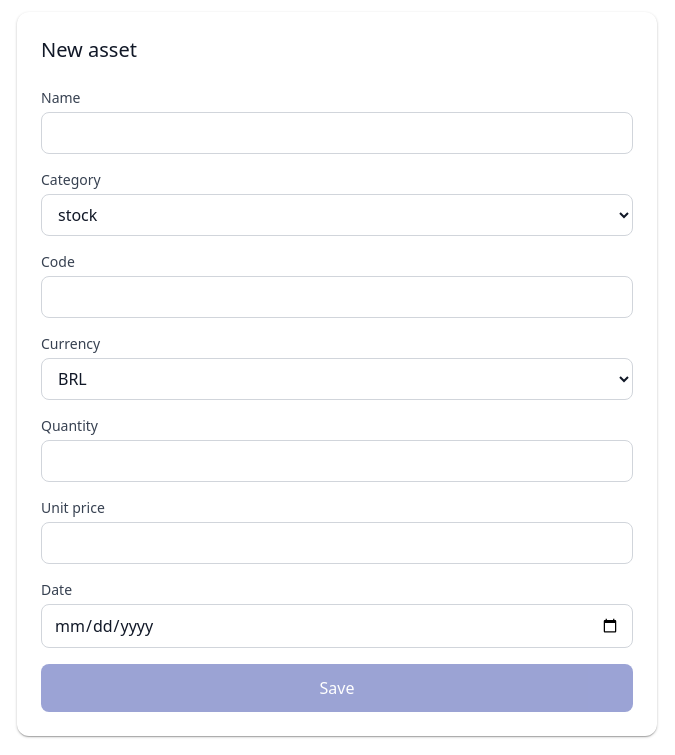
Test: AssetForm › hides both Code and Currency for bitcoin
Select "bitcoin" in the dropdown labelled "Category" at [337, 215], box [41,194,633,236]
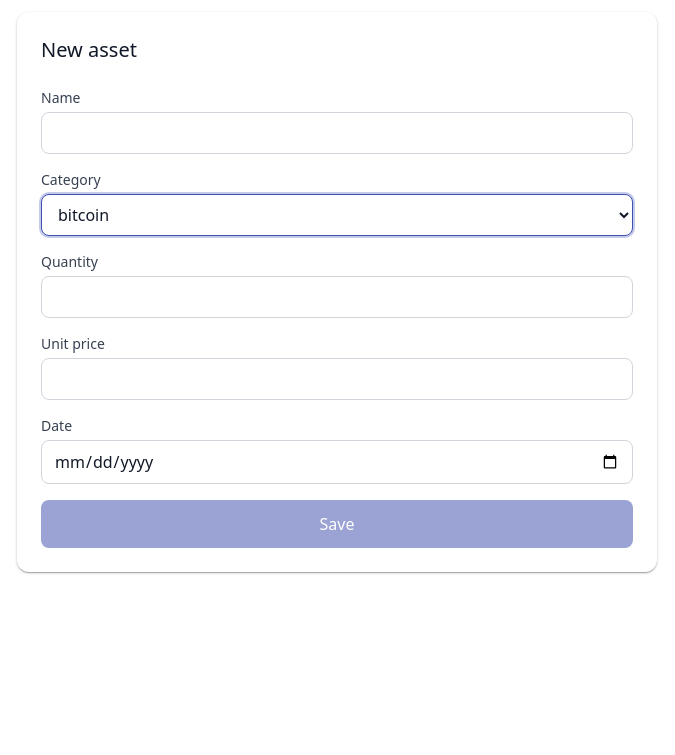
Check: the text labelled "Code" is gone
Check: the text labelled "Currency" is gone
